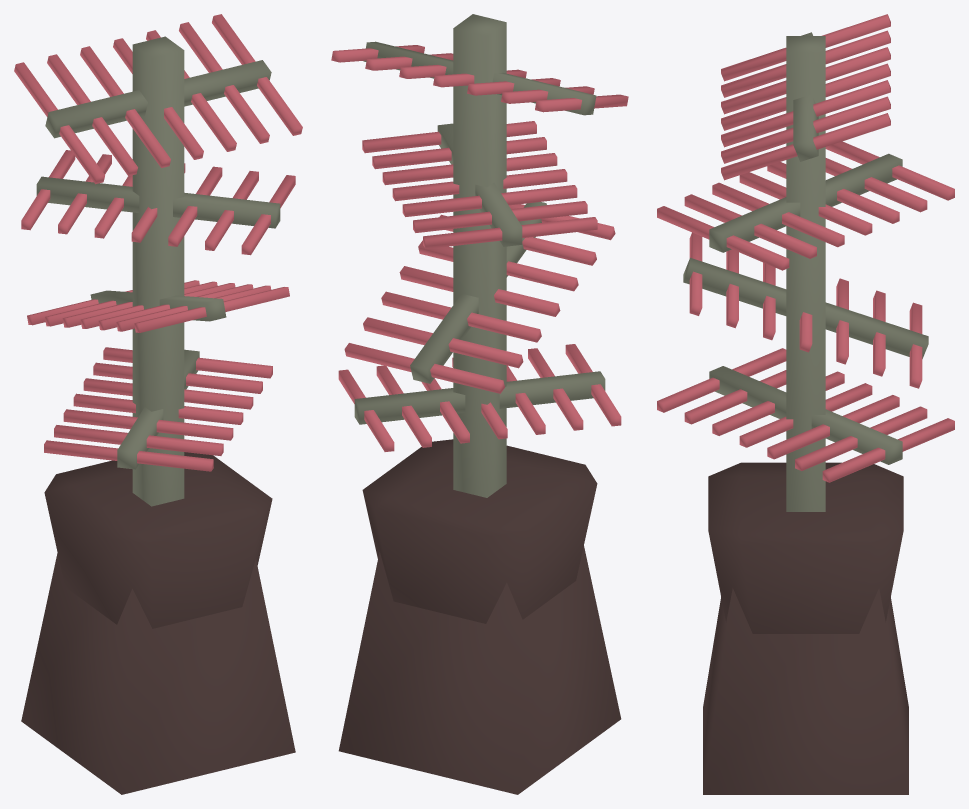
Rendered from challenge_pillar.glb.
The picture shows the model from 3 angles, left to right: view 1: azimuth 30°, elevation 25°; view 2: azimuth 150°, elevation 25°; view 3: azimuth 270°, elevation 25°; orthographic projection. The views are drawn at different scales.
Visible parts, largest first — view 1: pillar; view 2: pillar; view 3: pillar.
Part boxes in pixels (left/top/right/bottom): pillar: left=14, top=14, right=302, bottom=794; pillar: left=331, top=14, right=628, bottom=794; pillar: left=657, top=14, right=954, bottom=794.
Size of the model in its own units: 0.7637 by 2 by 0.7637.
1 material, 1 textured.
